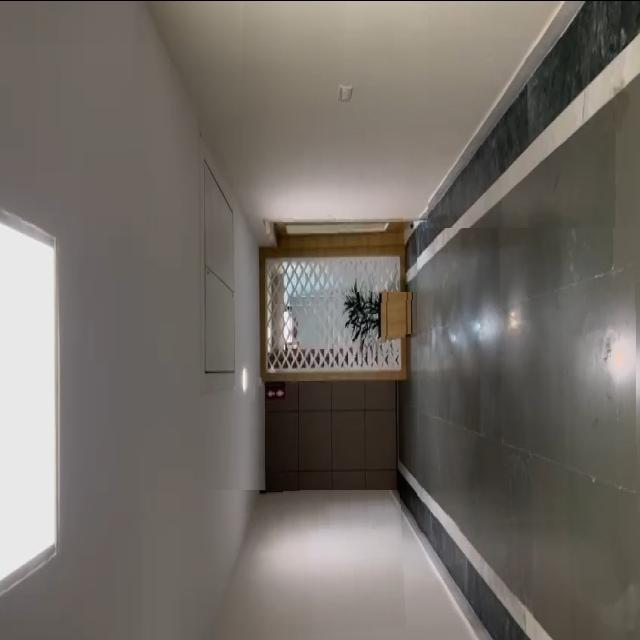floor: (418, 227, 638, 531)
furniture: (338, 291, 418, 357)
wall: (234, 0, 428, 221), (196, 489, 406, 640)
